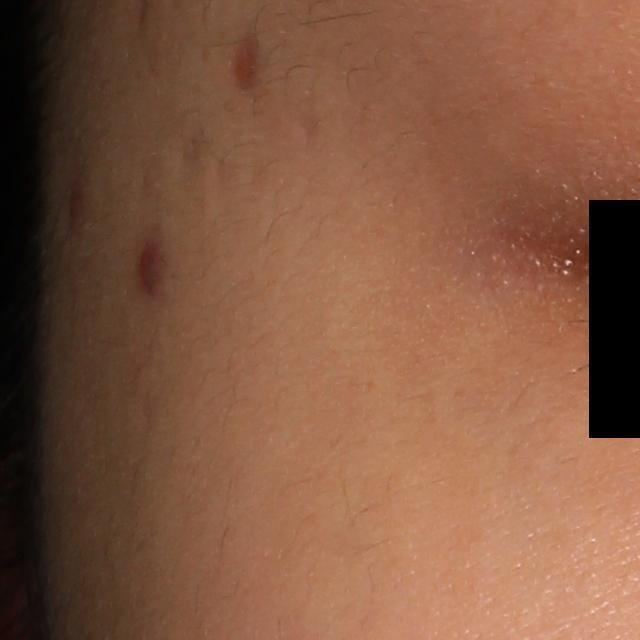atrophic_scar: (227, 25, 256, 93)
